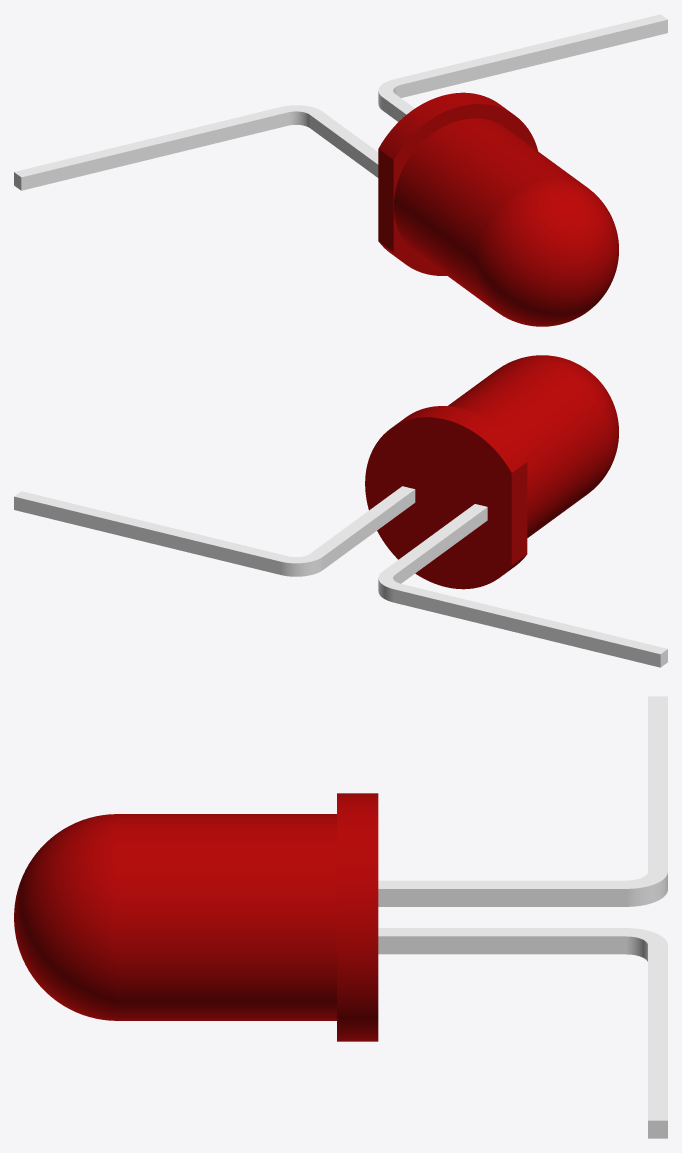
Rendered from LED5MM.obj.
3 views of the same model, one above another, from view 1: azimuth 30°, elevation 25°; view 2: azimuth 150°, elevation 25°; view 3: azimuth 270°, elevation 25° (orthographic). The views are drawn at different scales.
Visible parts, largest first — view 1: Solid1; view 2: Solid1; view 3: Solid1.
Boxes of the visible parts, left/top/right/bottom form: Solid1: left=14, top=14, right=667, bottom=326; Solid1: left=14, top=355, right=667, bottom=667; Solid1: left=14, top=696, right=667, bottom=1138.
Bounding box in the file's own units: 24.24 × 6 × 15.8.
